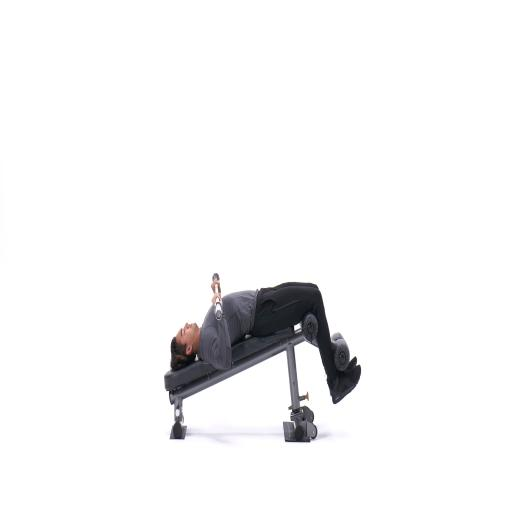exercise: (168, 272, 362, 408)
